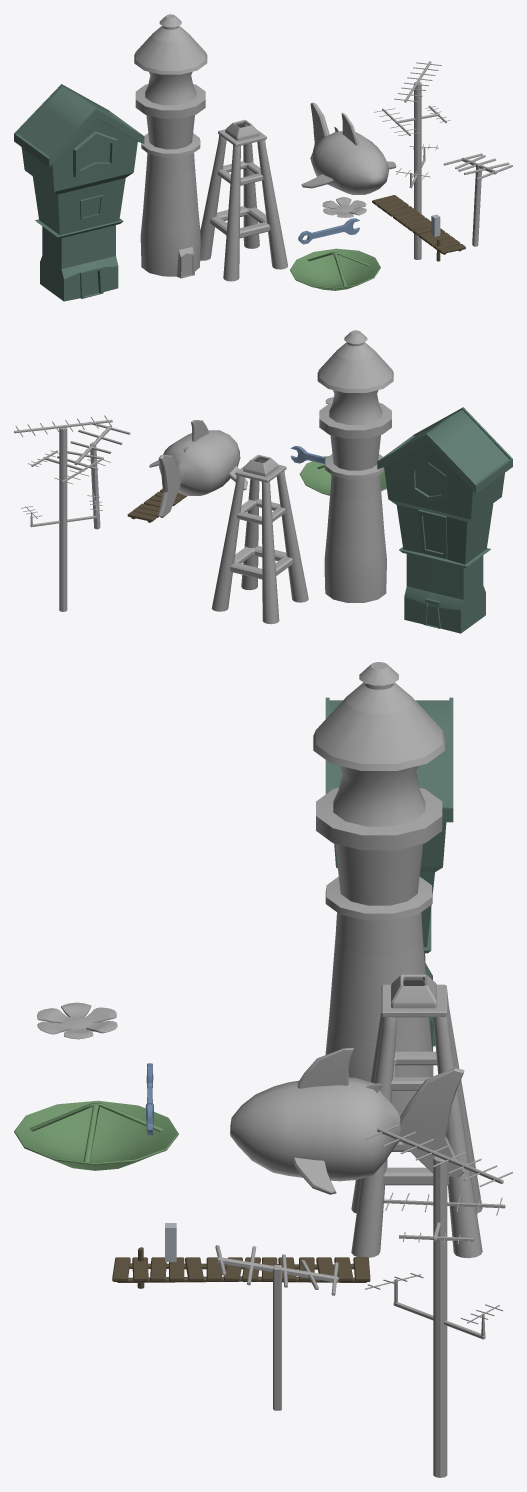
File: placeholders02.fbx
The picture shows the model from 3 angles, top to bottom: view 1: azimuth 30°, elevation 25°; view 2: azimuth 150°, elevation 25°; view 3: azimuth 270°, elevation 25°; orthographic projection. The views are drawn at different scales.
Parts seen in each view (by area): view 1: Torn2, lighthouse1, torn, fish_lady1, parabol1, Antenn3, brygga, anten1, blomma, wrench1; view 2: Torn2, lighthouse1, torn, fish_lady1, Antenn3, anten1, parabol1, brygga, wrench1; view 3: lighthouse1, fish_lady1, torn, parabol1, Antenn3, brygga, Torn2, anten1, blomma.
Boxes of the visible parts, x1,y1,x2,y2 form: Torn2: (14,84,144,301); lighthouse1: (134,14,207,278); torn: (200,119,287,281); fish_lady1: (301,102,396,194); parabol1: (290,248,380,290); Antenn3: (374,61,450,259); brygga: (372,195,465,261); anten1: (443,153,512,246); blomma: (322,197,366,217); wrench1: (298,218,359,244); Torn2: (377,407,512,633); lighthouse1: (317,330,393,602); torn: (211,454,308,624); fish_lady1: (149,420,247,517); Antenn3: (14,415,112,611); anten1: (57,421,130,529); parabol1: (299,456,386,495); brygga: (127,488,186,522); wrench1: (290,446,326,463); lighthouse1: (313,662,444,1116); fish_lady1: (230,1048,464,1194); torn: (351,974,482,1258); parabol1: (14,1100,178,1170); Antenn3: (365,1124,512,1477); brygga: (112,1247,370,1288); Torn2: (325,697,453,1051); anten1: (215,1245,338,1410); blomma: (37,1002,117,1039).
Size of the model in its own units: 61.04 by 42.42 by 33.28.
